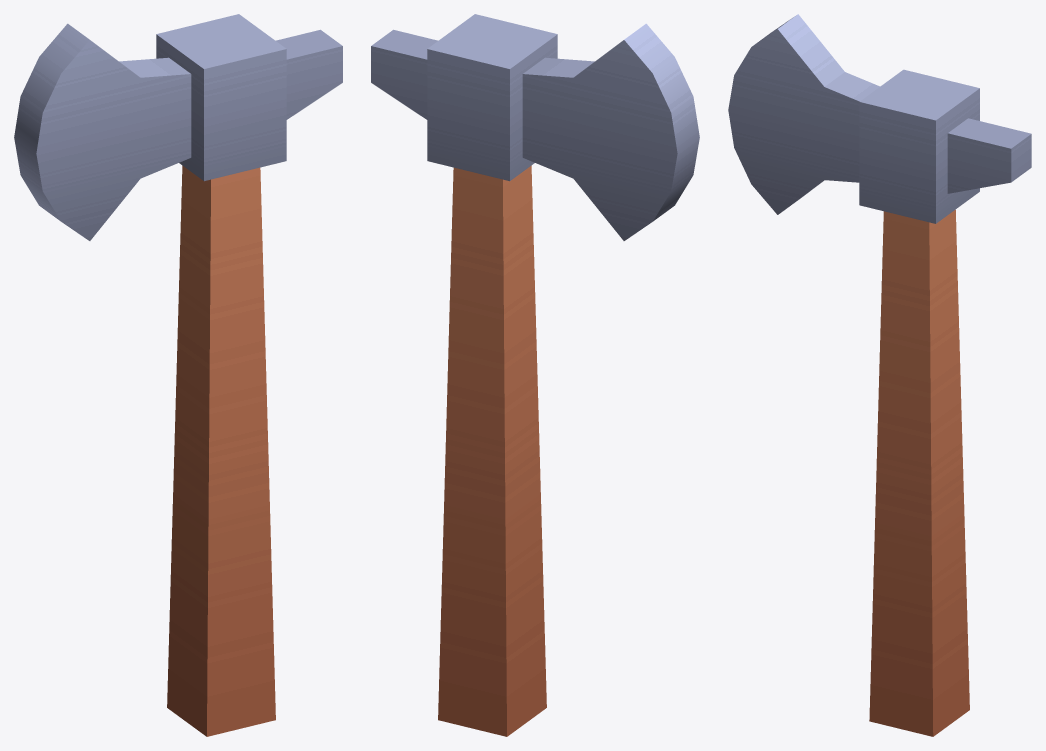
Rendered from kenney-tool-axe.glb.
3 renders of one model, left to right at view 1: azimuth 30°, elevation 25°; view 2: azimuth 150°, elevation 25°; view 3: azimuth 330°, elevation 25°, orthographic. The views are drawn at different scales.
Visible parts, largest first — view 1: tool-axe; view 2: tool-axe; view 3: tool-axe.
Boxes of the visible parts, x1,y1,x2,y2 form: tool-axe: (14,14,342,736); tool-axe: (371,14,699,736); tool-axe: (728,14,1031,736).
Bounding box in the file's own units: 0.1145 × 0.256 × 0.0309.
Materials: 1 (1 with a texture image).
